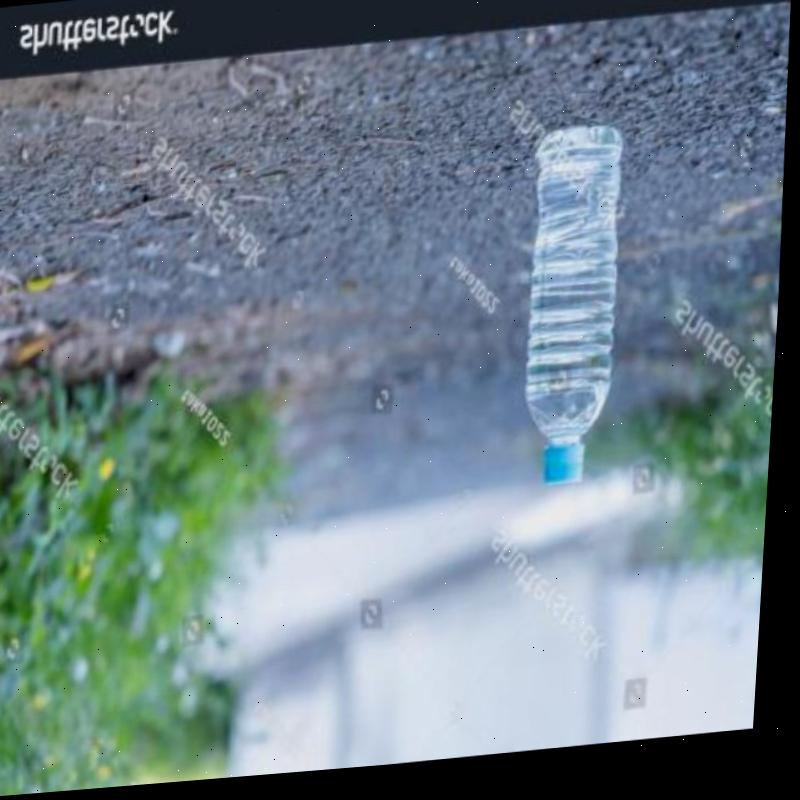botella: (521, 133, 633, 500)
